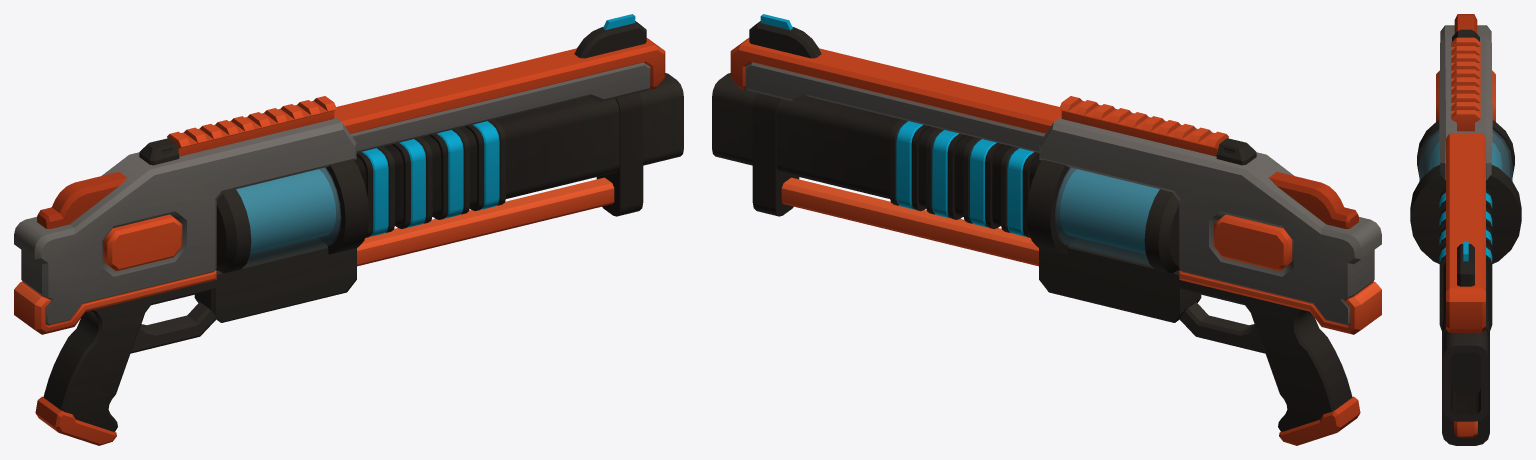
File: Shotgun1_Base.fbx
3 views of the same model, side by side, from view 1: azimuth 30°, elevation 25°; view 2: azimuth 150°, elevation 25°; view 3: azimuth 270°, elevation 25° (orthographic).
Visible parts, largest first — view 1: Shotgun1_Base; view 2: Shotgun1_Base; view 3: Shotgun1_Base.
Boxes of the visible parts, <box> form: Shotgun1_Base: <box>14,14,683,445</box>; Shotgun1_Base: <box>712,14,1381,445</box>; Shotgun1_Base: <box>1410,14,1521,445</box>.
Size of the model in its own units: 66.92 by 28.69 by 9.87.
